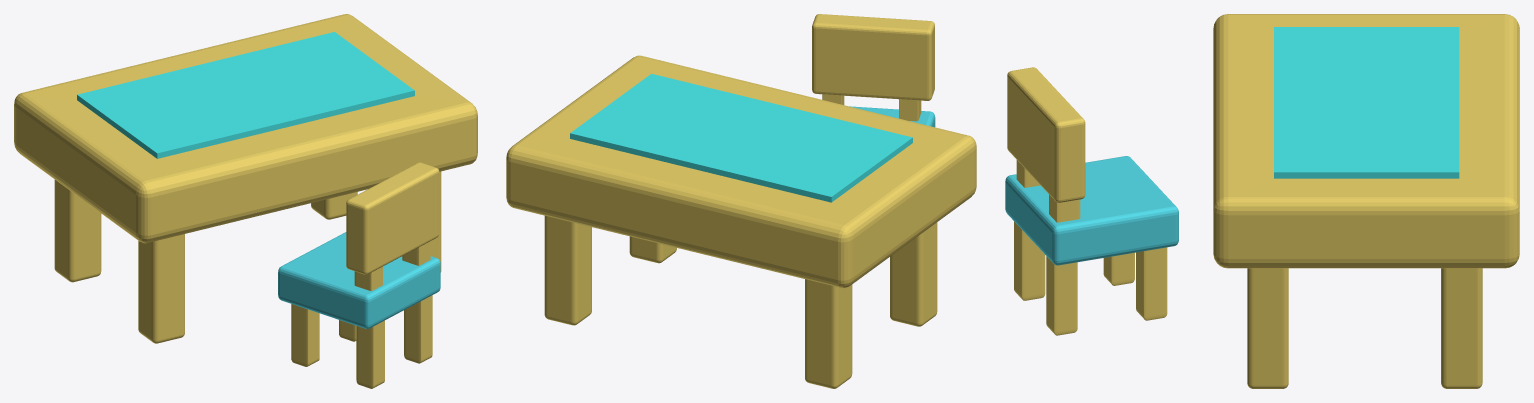
File: desk_no_mat.glb
3 views of the same model, side by side, from view 1: azimuth 30°, elevation 25°; view 2: azimuth 150°, elevation 25°; view 3: azimuth 270°, elevation 25° (orthographic). The views are drawn at different scales.
Visible parts, largest first — view 1: Cube, Cube.005, Cube.006, Cube.001, Cube.004, Cube.007, Cube.008, Cube.009, Cube.003, Cube.011, Cube.002, Cube.012; view 2: Cube, Cube.006, Cube.004, Cube.003, Cube.001, Cube.002, Cube.005, Cube.011; view 3: Cube, Cube.005, Cube.006, Cube.003, Cube.002, Cube.008, Cube.010, Cube.007, Cube.009, Cube.012.
Part boxes in pixels (x1,y1,x2,y2): Cube: (14,14,477,243); Cube.005: (278,232,440,328); Cube.006: (346,162,439,274); Cube.001: (138,234,184,343); Cube.004: (54,179,101,282); Cube.007: (356,320,384,388); Cube.008: (404,295,432,363); Cube.009: (291,304,319,366); Cube.003: (311,192,357,219); Cube.011: (354,266,382,291); Cube.002: (430,171,441,272); Cube.012: (402,241,430,265); Cube: (506,55,976,288); Cube.006: (812,14,934,100); Cube.004: (805,279,852,388); Cube.003: (544,215,591,325); Cube.001: (890,222,937,326); Cube.002: (629,236,676,263); Cube.005: (849,106,935,127); Cube.011: (899,99,921,121); Cube: (1213,14,1519,268); Cube.005: (1005,156,1178,265); Cube.006: (1007,67,1085,202); Cube.003: (1441,268,1482,388); Cube.002: (1247,268,1288,388); Cube.008: (1046,256,1077,335); Cube.010: (1136,247,1167,320); Cube.007: (1014,221,1045,300); Cube.009: (1103,252,1134,285); Cube.012: (1049,194,1080,222).
Bounding box in the file's own units: 2.96 × 1.57 × 3.36.
